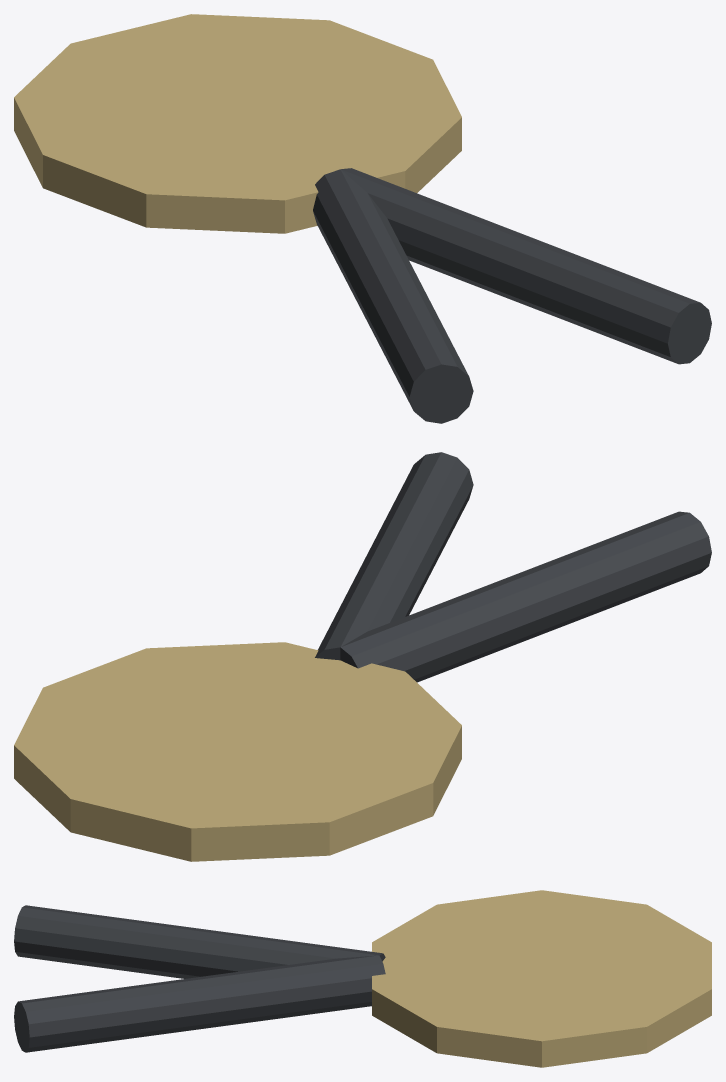
The picture shows the model from 3 angles, top to bottom: view 1: azimuth 30°, elevation 25°; view 2: azimuth 150°, elevation 25°; view 3: azimuth 270°, elevation 25°; orthographic projection. The views are drawn at different scales.
Visible parts, largest first — view 1: geometry_0; view 2: geometry_0; view 3: geometry_0.
Part boxes in pixels (x1=…): geometry_0: x1=14, y1=14, x2=711, y2=423; geometry_0: x1=14, y1=452, x2=711, y2=861; geometry_0: x1=14, y1=890, x2=711, y2=1067.
Bounding box in the file's own units: 0.11 × 0.02 × 0.2147.
